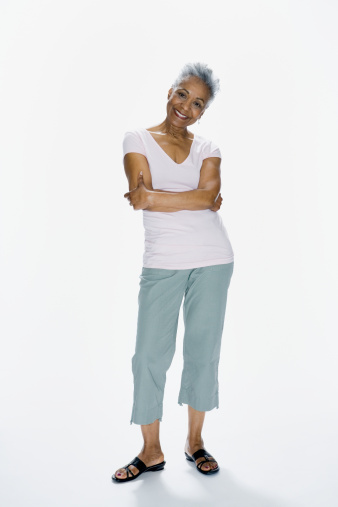em pe: (112, 59, 236, 492)
